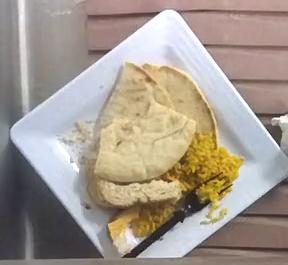naan: (91, 63, 217, 207)
rice: (160, 132, 241, 207), (130, 202, 174, 237)
